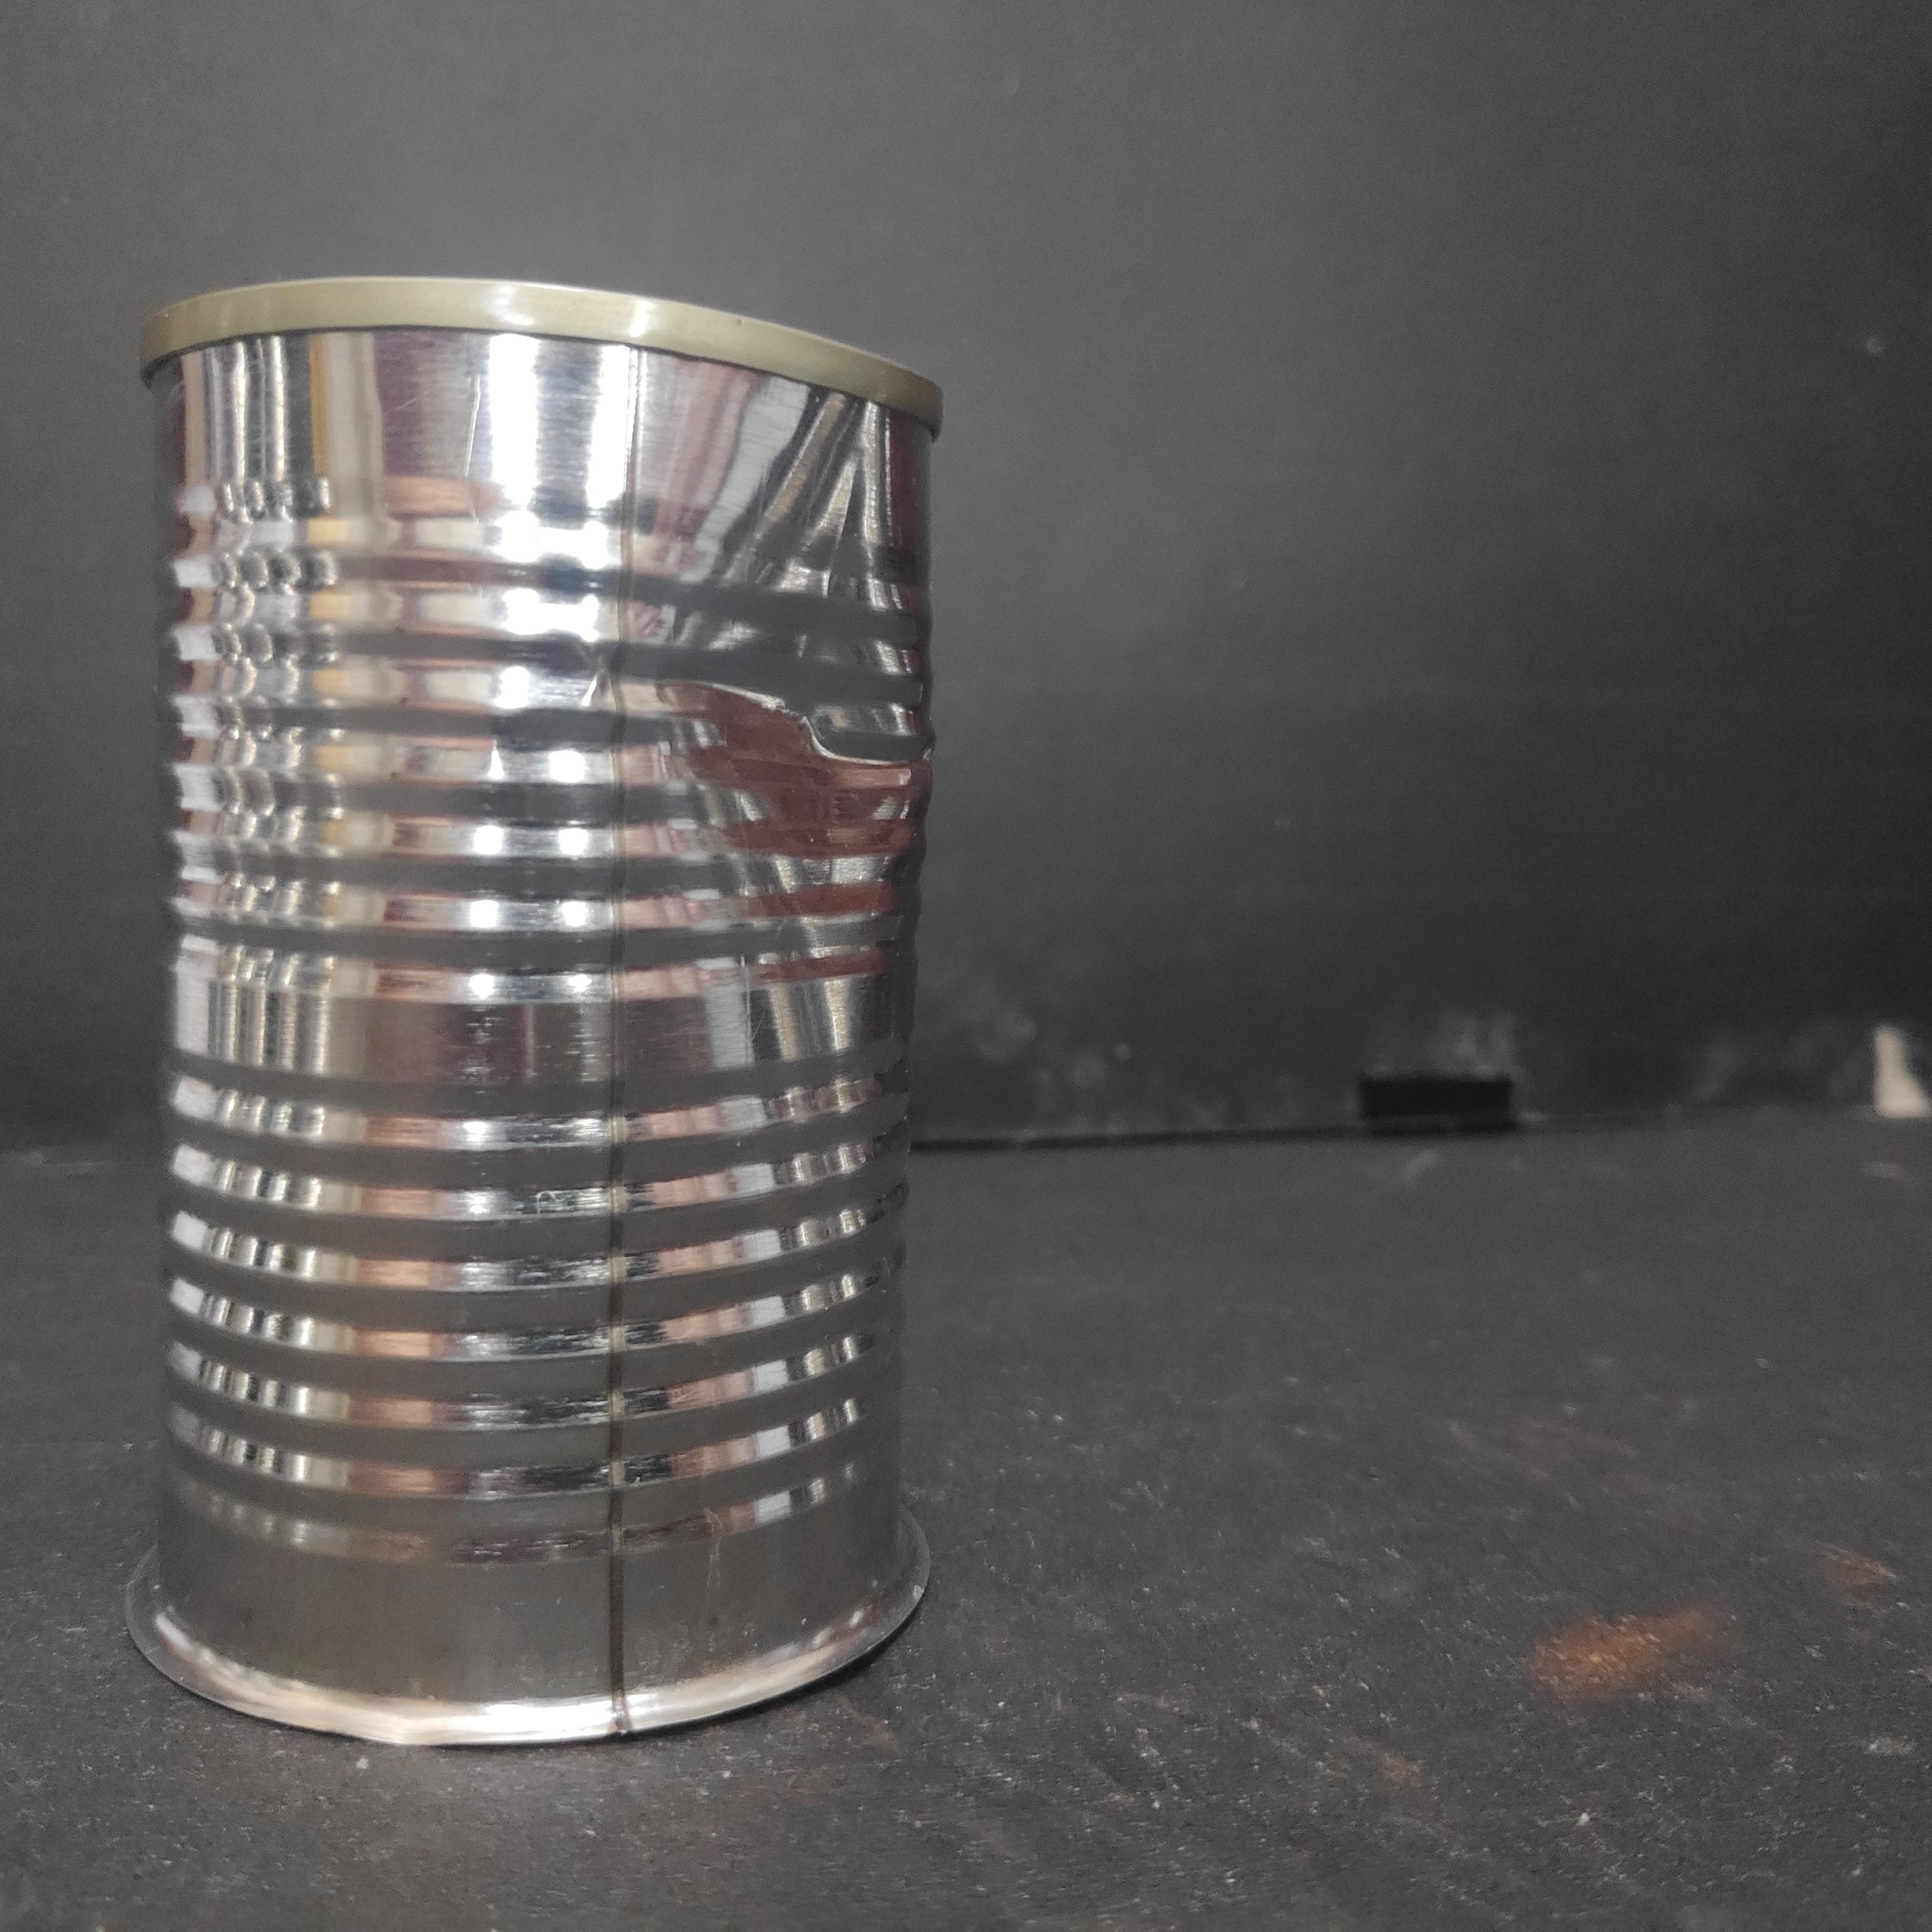Minor Defect: (133, 262, 955, 1762)
